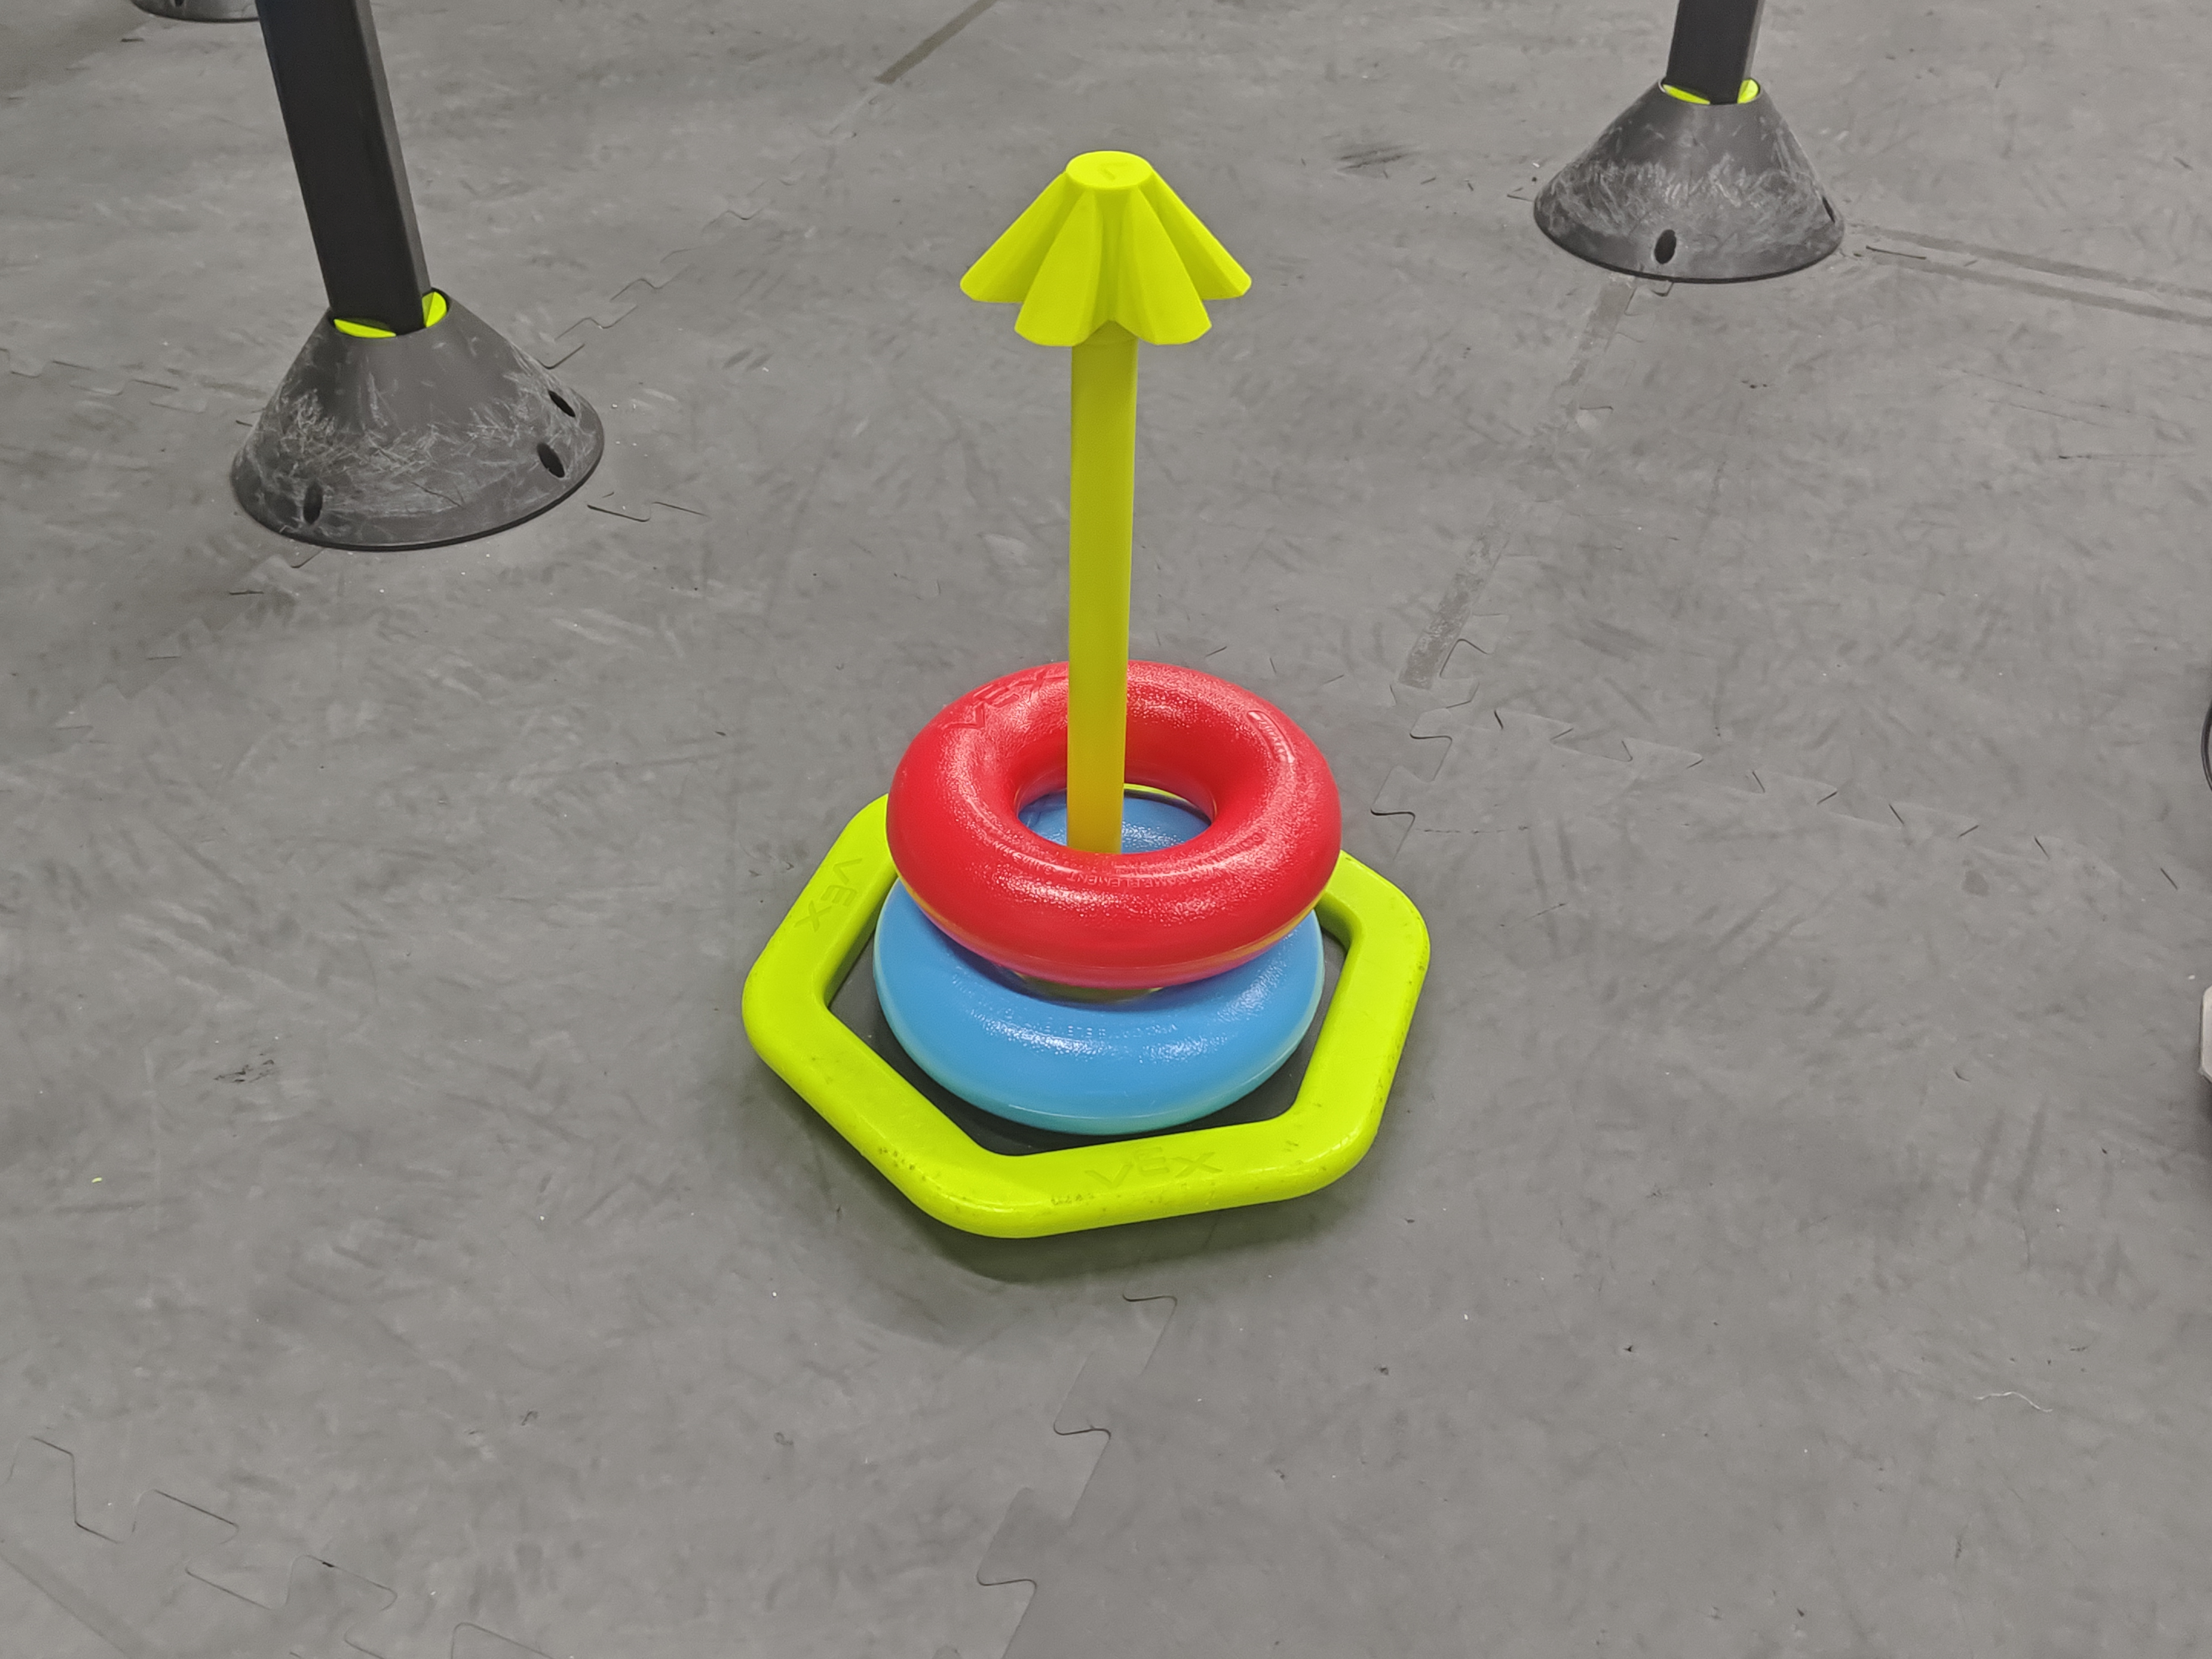blue: (871, 809, 1334, 1133)
red: (885, 664, 1341, 979)
score: (733, 148, 1440, 1249)
